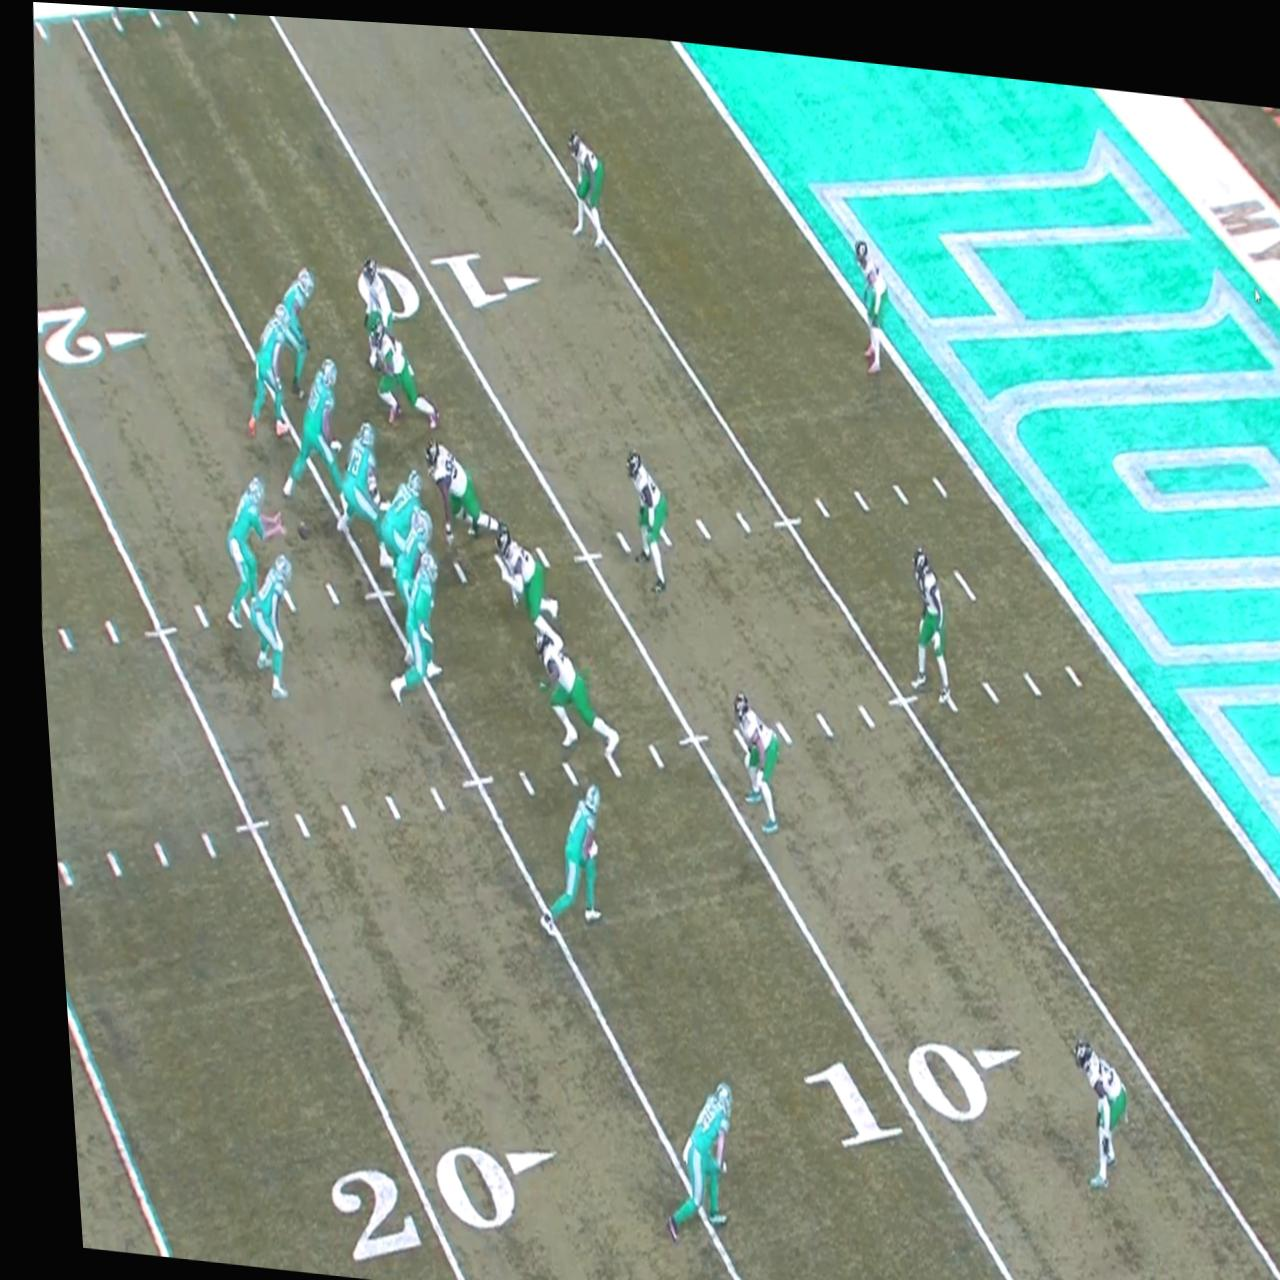10R: (781, 1014, 1013, 1155), (350, 236, 542, 327)
20R: (305, 1123, 547, 1278), (30, 298, 148, 373)
